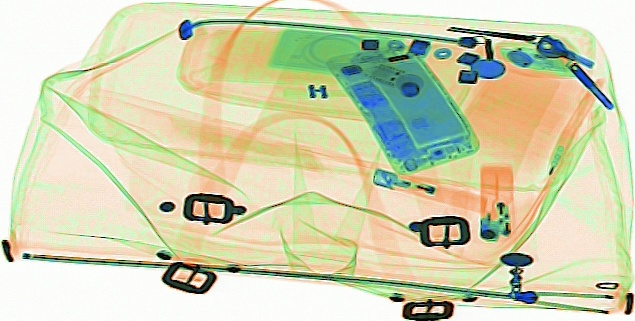lighter: (370, 165, 488, 214), (475, 163, 514, 242)
